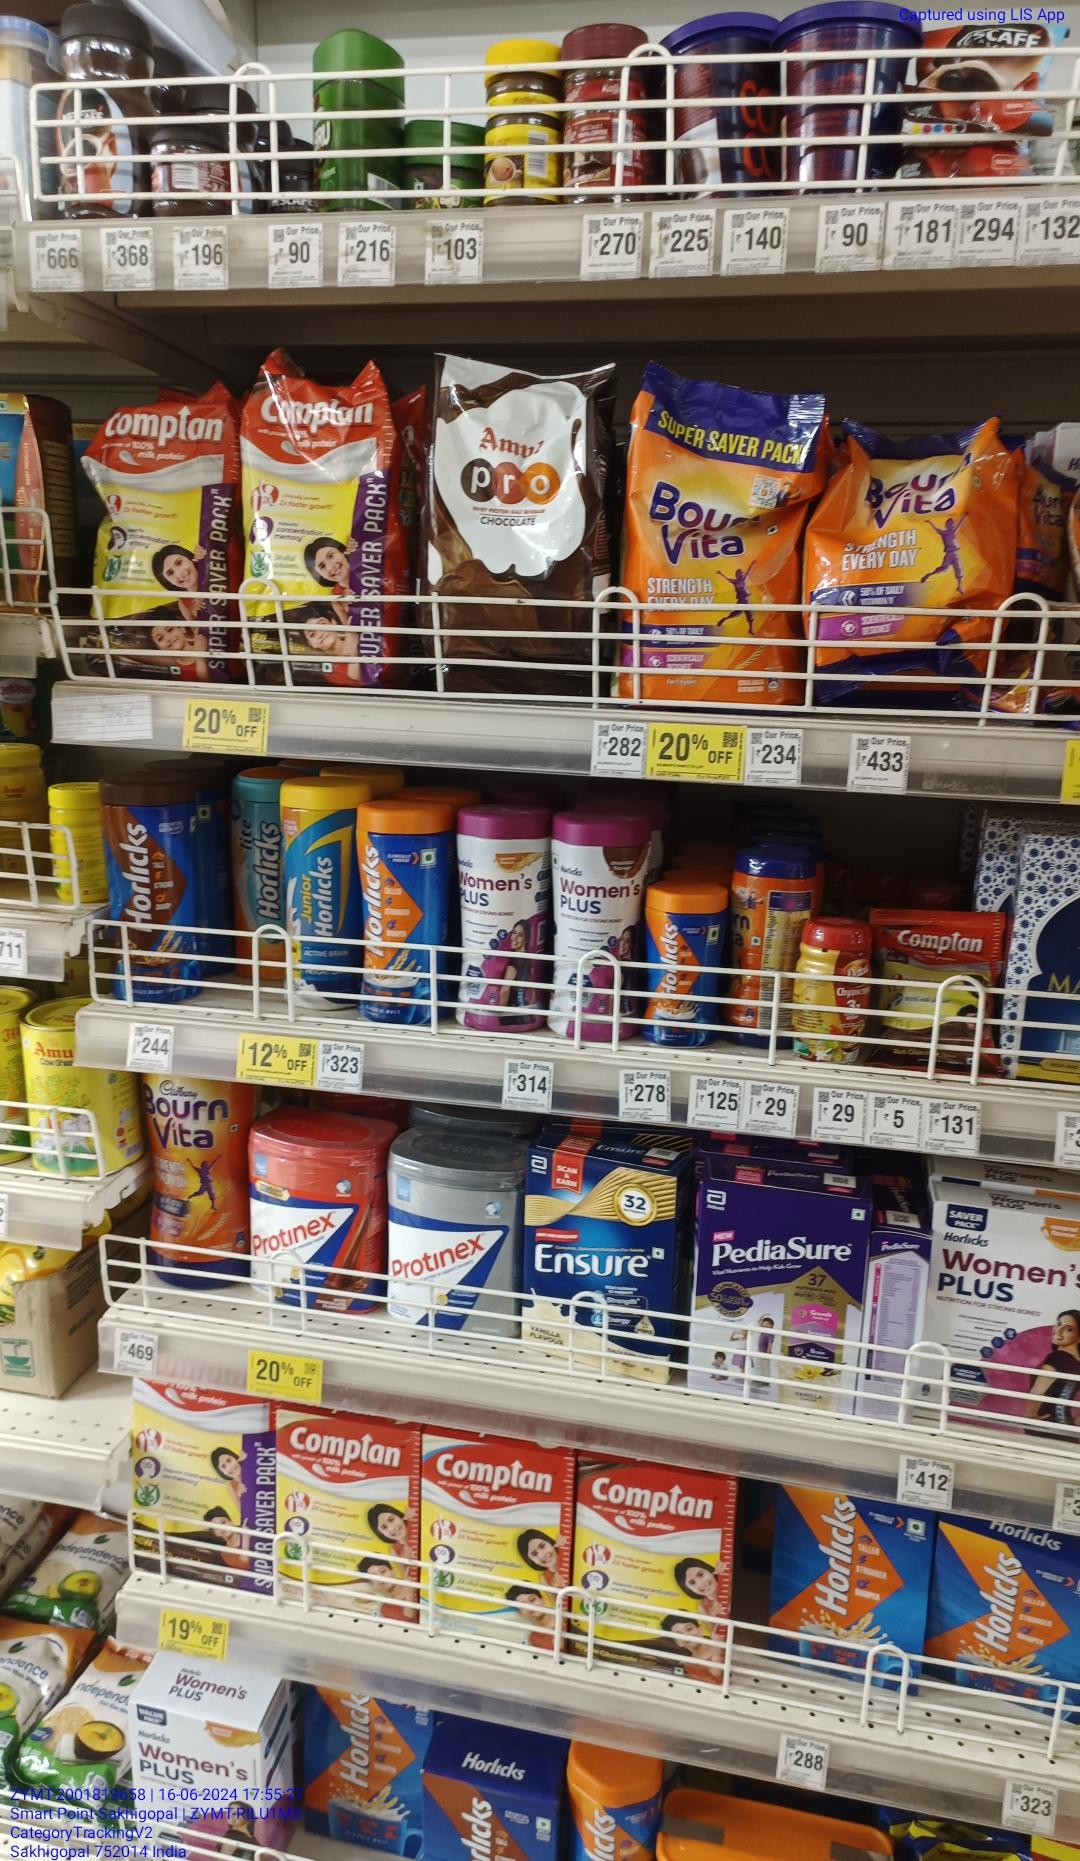ENSURE_VANILLA_400_G_PACK: (530, 1154, 678, 1371)
HORLICKS_JUNIOR_VANILLA_500_GM_JAR: (284, 778, 357, 1006)
HORLICKS_LITE_REGULAR_MALT_500_GM_JAR: (231, 766, 282, 979)
PEDIASURE_VANILLA_500_G_PACK: (694, 1185, 863, 1405)
PROTINEX_CHOCOLATE_400_G_JAR: (249, 1107, 372, 1311)
PROTINEX_ORIGINAL_400_G_JAR: (390, 1135, 522, 1338)
